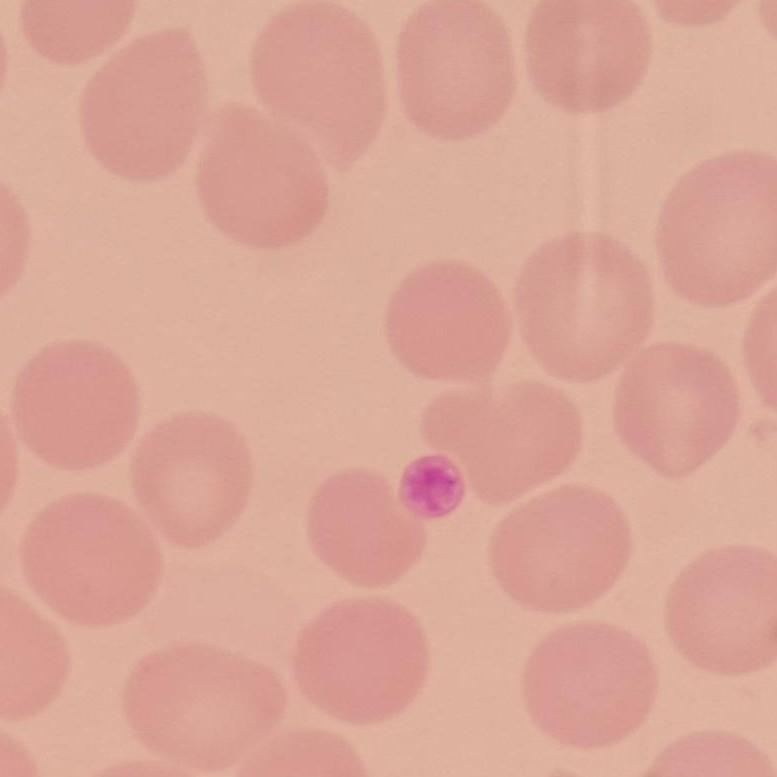Uninfected: (252, 0, 384, 175), (192, 97, 332, 255), (122, 641, 286, 771), (653, 142, 777, 313), (515, 232, 654, 384), (418, 386, 583, 508), (25, 491, 164, 631), (608, 337, 738, 480), (288, 594, 425, 729), (493, 484, 628, 618), (382, 254, 512, 393), (85, 22, 199, 180), (12, 334, 143, 471), (522, 619, 657, 748), (395, 0, 513, 140), (137, 412, 256, 549), (663, 544, 777, 679), (518, 0, 652, 114), (308, 464, 422, 588)
